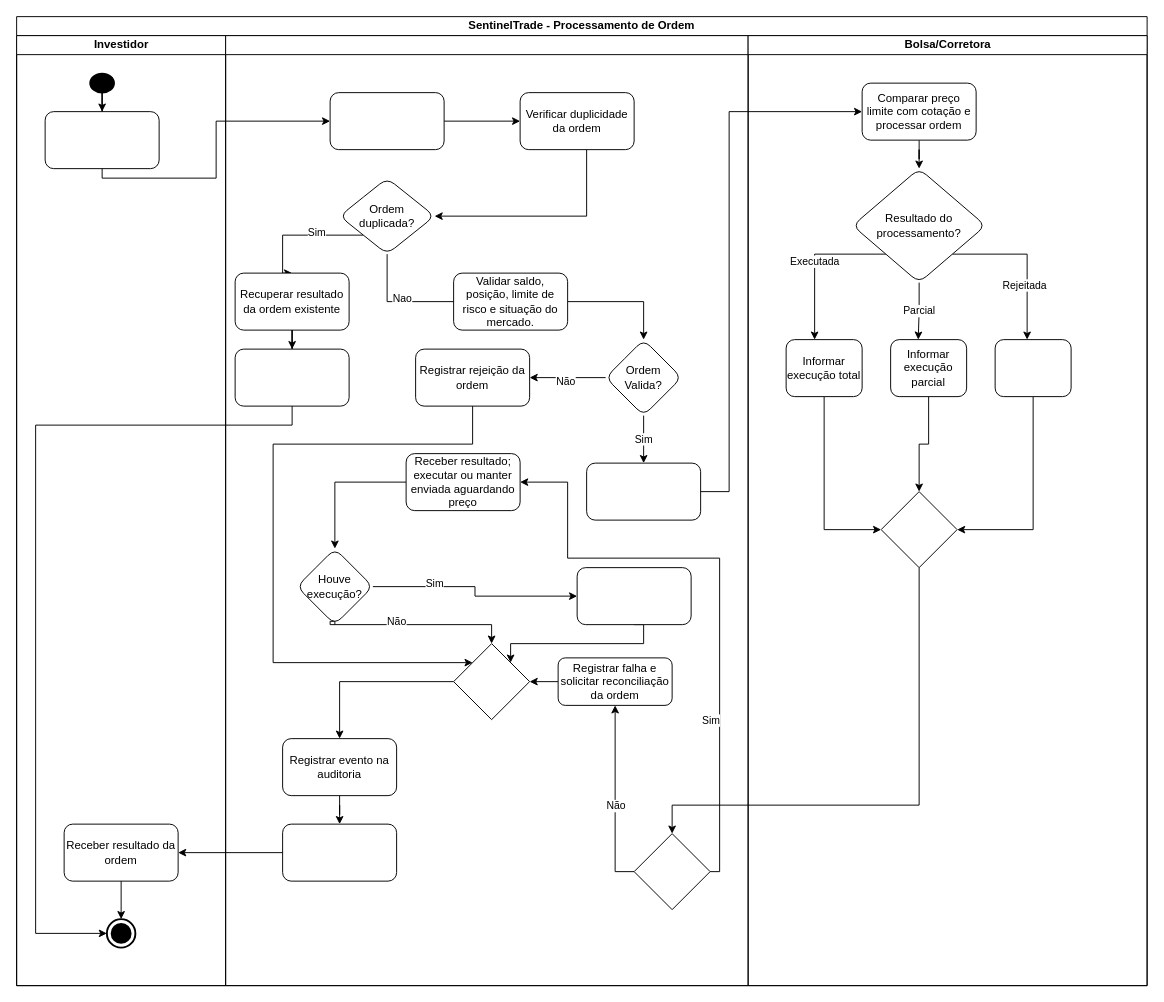
Image size: 1164x1002. Some labels were removed from this diagram. Here are the shapes that lost their labels. From the top down, the box of each, then its label:
(44, 111, 159, 169): Enviar ordem de compra ou venda
(329, 92, 444, 150): Receber e registrar solicitação
(234, 348, 349, 406): Informar resultado da solicitação existente
(994, 339, 1071, 397): Informar rejeição de ordem
(225, 35, 748, 986): SentinelTrade
(586, 462, 701, 520): Transmitir ordem validada com preço limite
(576, 567, 691, 625): Atualizar saldo e posições da carteira
(282, 823, 397, 881): Enviar notificação ao investidor
(633, 833, 710, 910): Resposta recebida?
